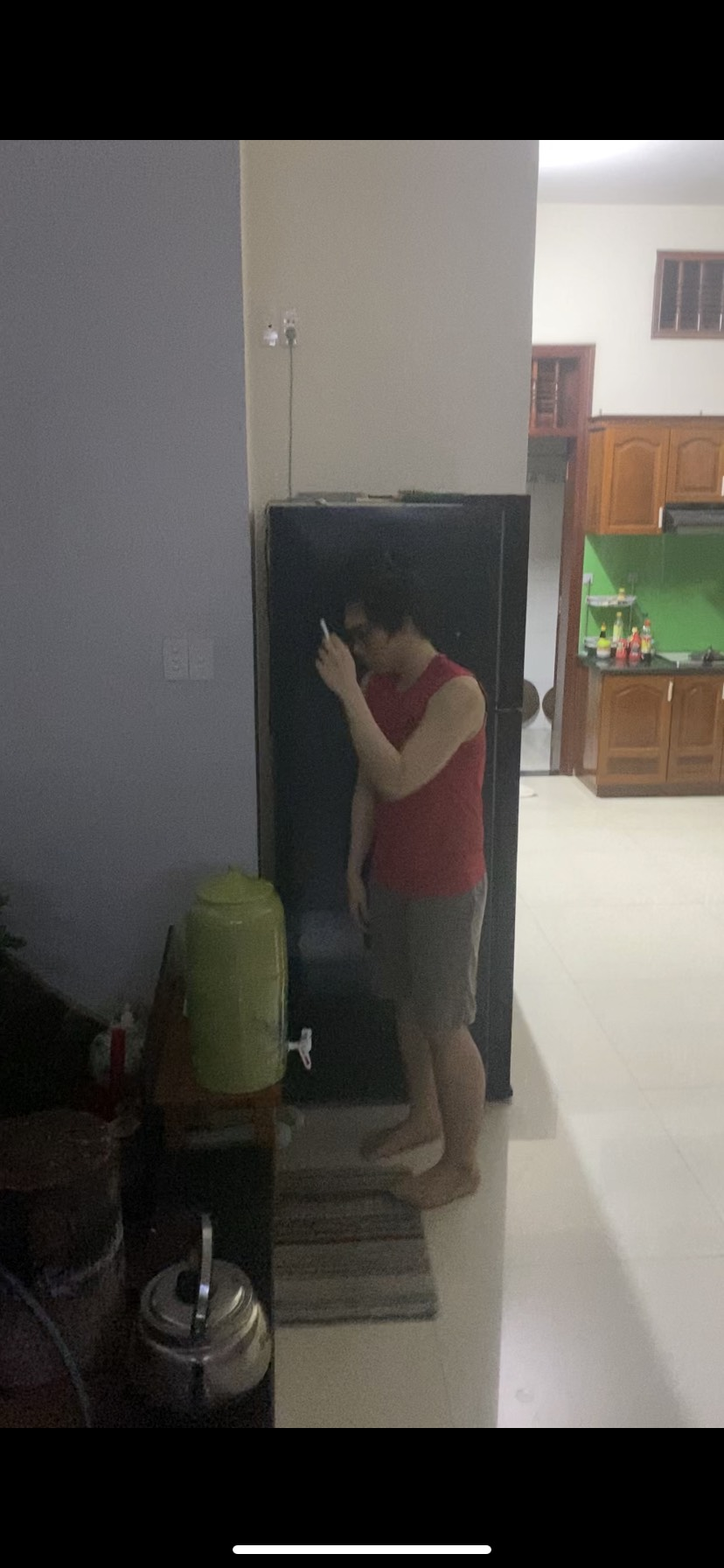cigarette: (317, 615, 332, 641)
person: (314, 573, 500, 1218)
